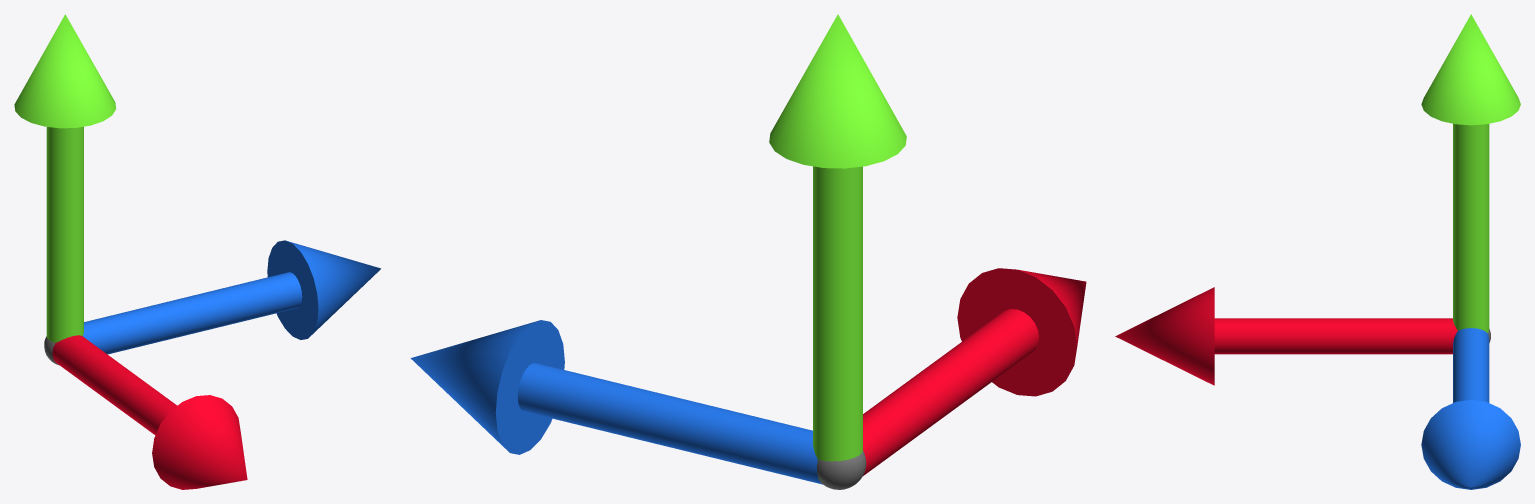
Rendered from ThreeVector2.fbx.
3 views of the same model, side by side, from view 1: azimuth 30°, elevation 25°; view 2: azimuth 150°, elevation 25°; view 3: azimuth 270°, elevation 25° (orthographic). The views are drawn at different scales.
Parts seen in each view (by area): view 1: pCylinder2, pCylinder4, pCylinder3; view 2: pCylinder2, pCylinder4, pCylinder3, pSphere1; view 3: pCylinder2, pCylinder3, pCylinder4.
Boxes of the visible parts, left/top/right/bottom form: pCylinder2: left=14, top=14, right=116, bottom=342; pCylinder4: left=83, top=240, right=380, bottom=354; pCylinder3: left=52, top=335, right=247, bottom=489; pCylinder2: left=769, top=14, right=906, bottom=480; pCylinder4: left=410, top=320, right=840, bottom=488; pCylinder3: left=851, top=268, right=1086, bottom=484; pSphere1: left=817, top=451, right=866, bottom=489; pCylinder2: left=1421, top=14, right=1520, bottom=332; pCylinder3: left=1115, top=287, right=1457, bottom=385; pCylinder4: left=1421, top=328, right=1520, bottom=489.
Size of the model in its own units: 8.15 by 8.15 by 8.15.
